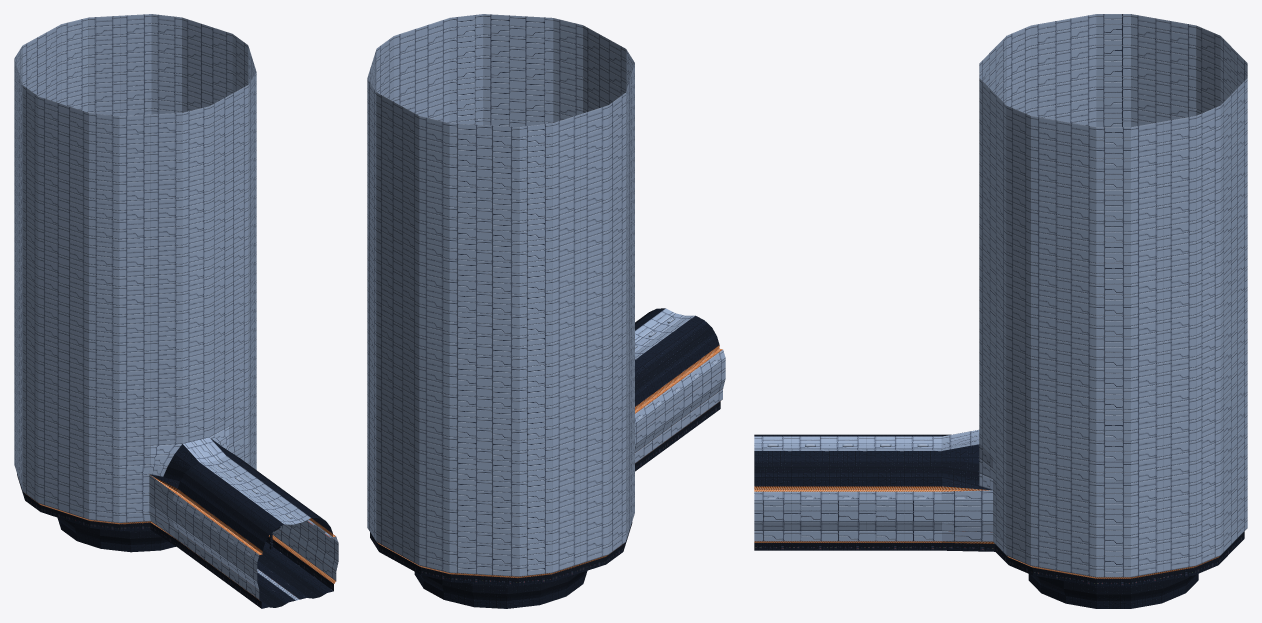
Rendered from spaceStation 1.fbx.
The picture shows the model from 3 angles, left to right: view 1: azimuth 30°, elevation 25°; view 2: azimuth 150°, elevation 25°; view 3: azimuth 270°, elevation 25°; orthographic projection. The views are drawn at different scales.
Parts seen in each view (by area): view 1: Plane.004; view 2: Plane.004; view 3: Plane.004.
Part boxes in pixels (box(x1,y1,x2,y2)): Plane.004: box(14, 14, 338, 608); Plane.004: box(367, 14, 725, 608); Plane.004: box(754, 14, 1247, 608).
Bounding box in the file's own units: 9290 × 19300 × 17090.
